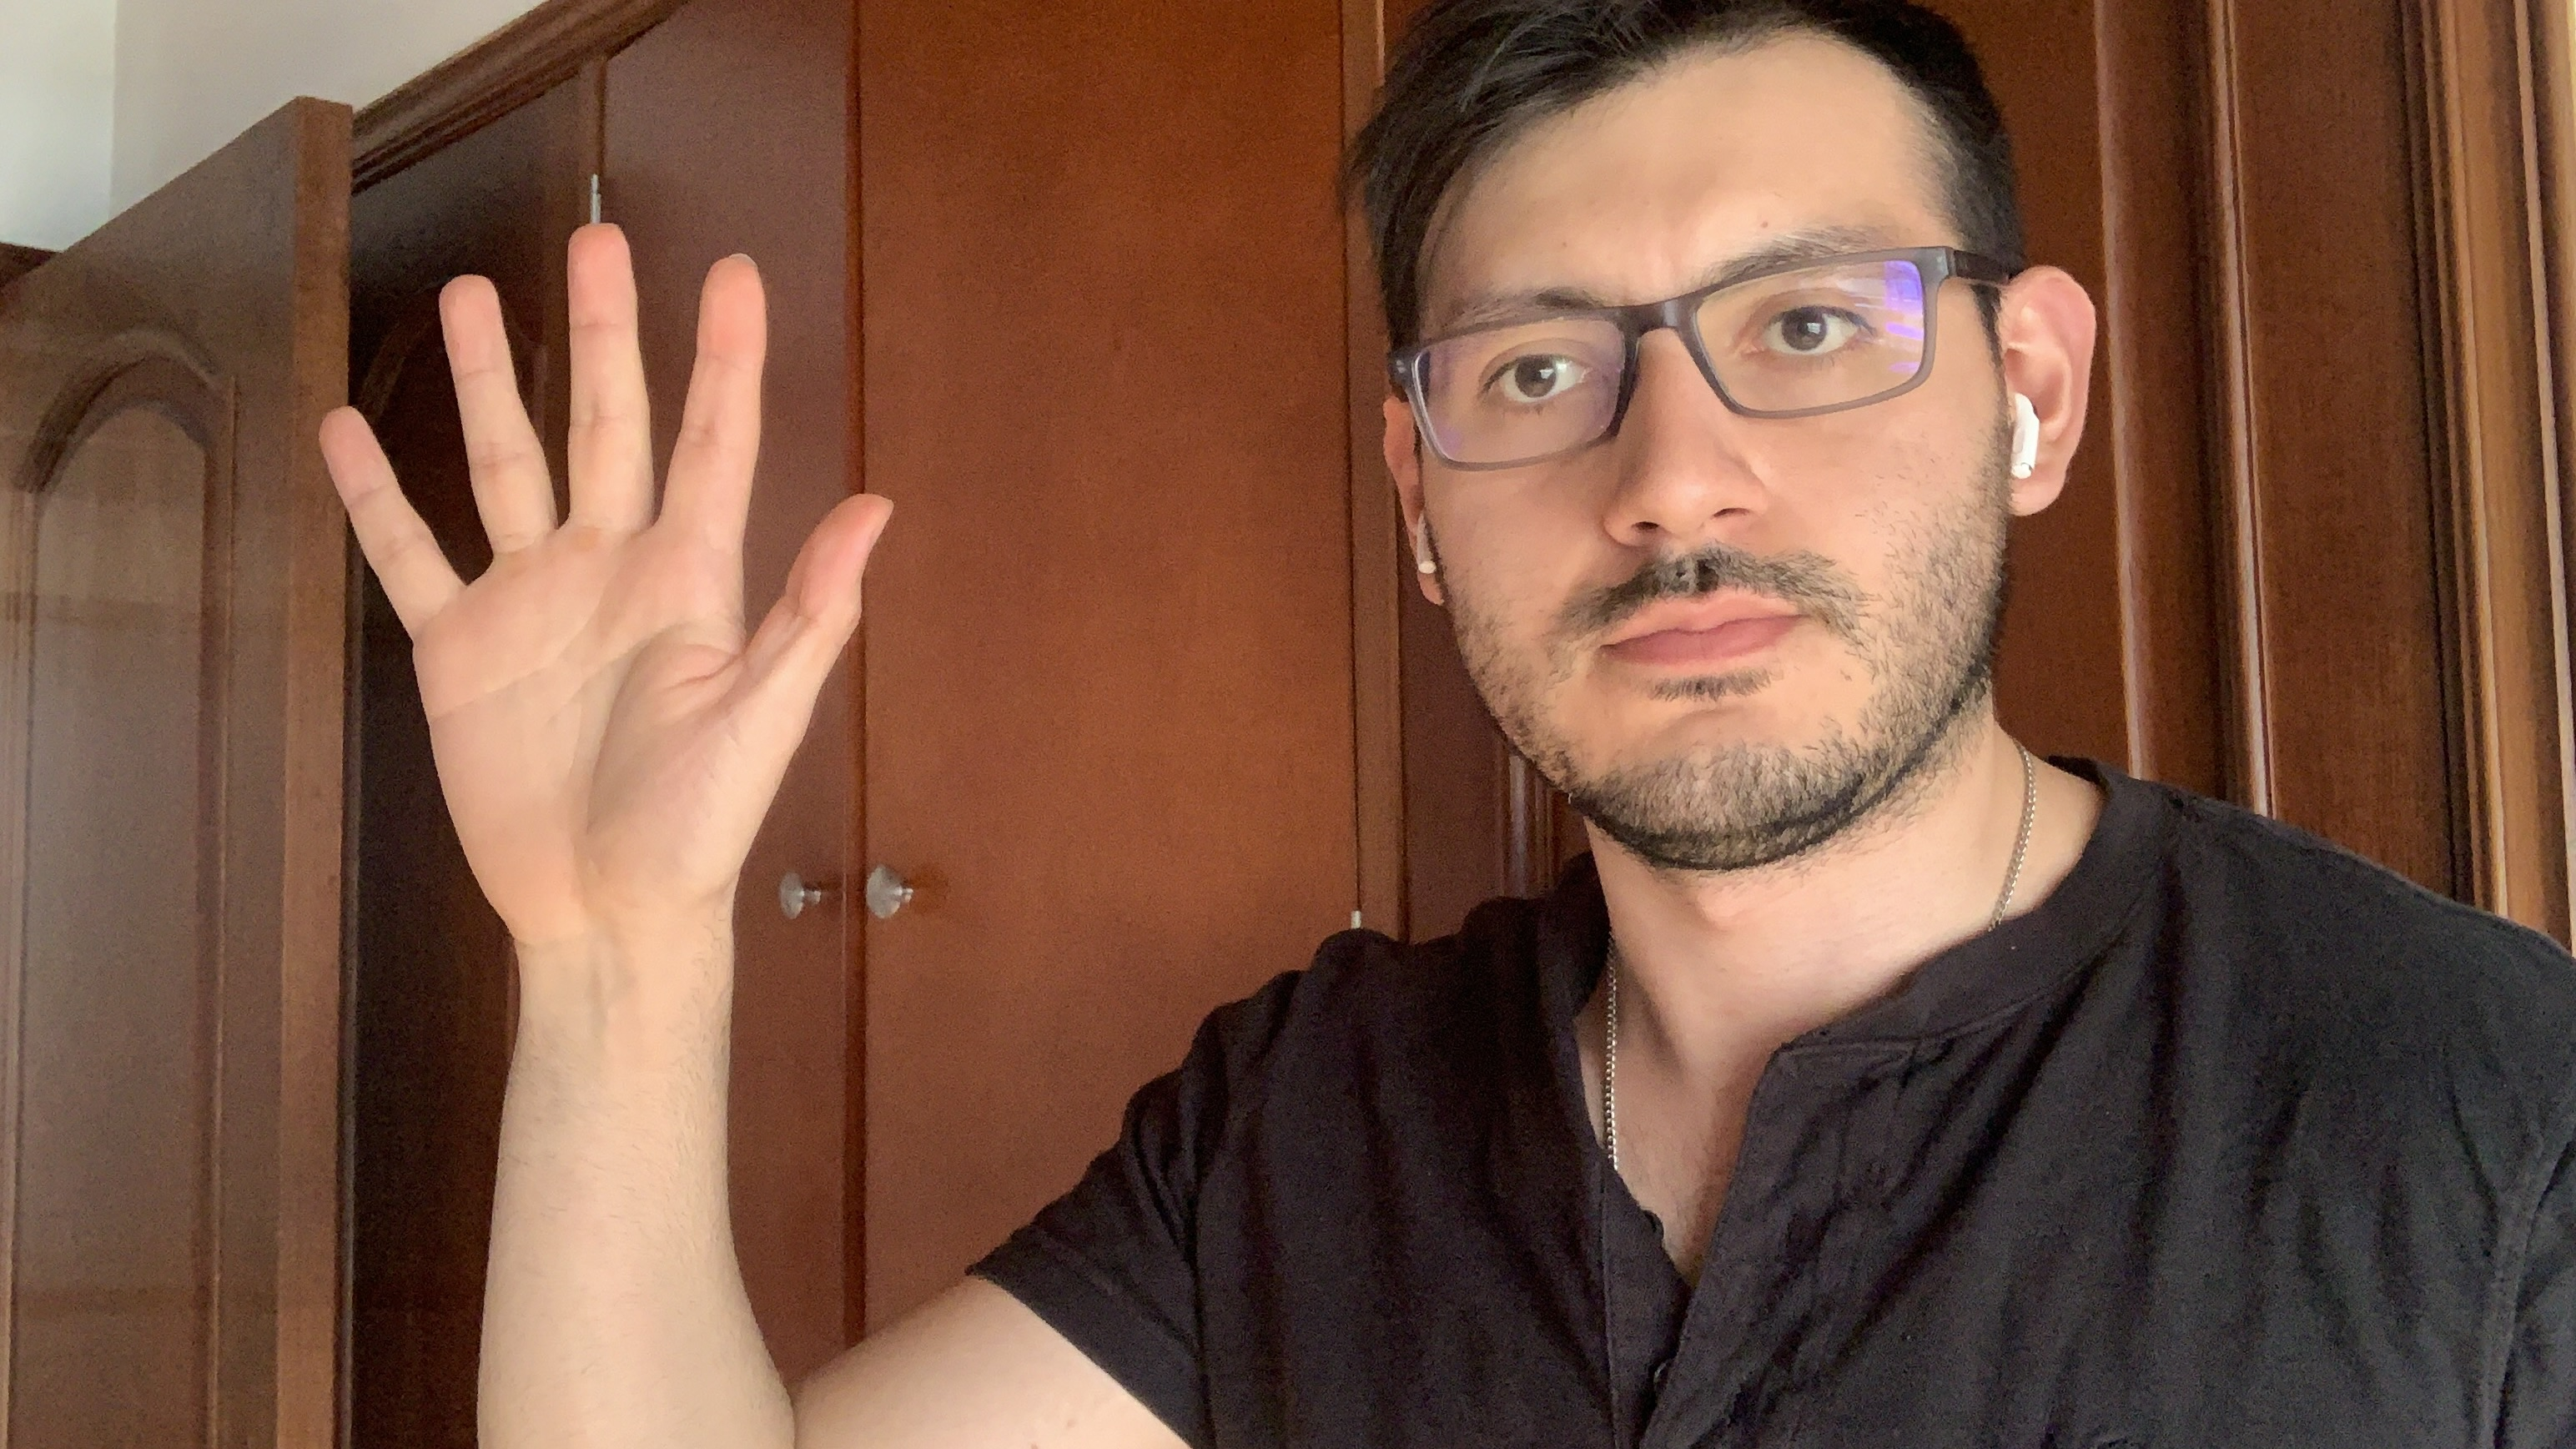Hello: (306, 212, 909, 931)
